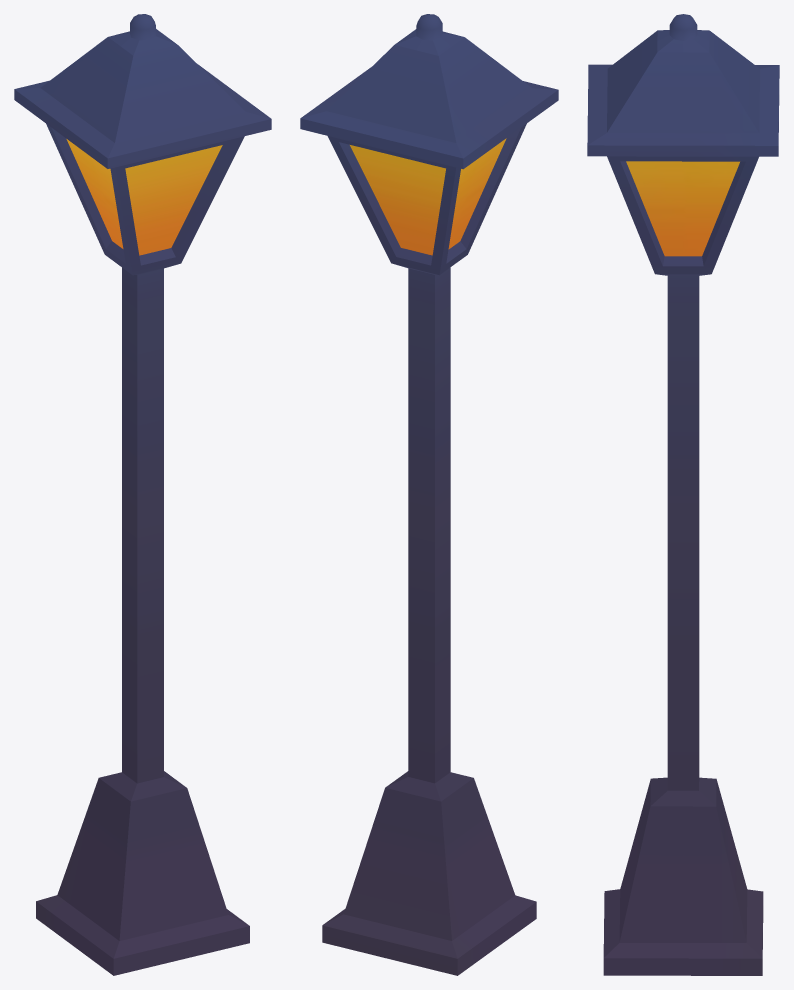
Rendered from streetlight.glb.
3 renders of one model, left to right at view 1: azimuth 30°, elevation 25°; view 2: azimuth 150°, elevation 25°; view 3: azimuth 270°, elevation 25°, orthographic.
Parts seen in each view (by area): view 1: Streetlight.001_Material.005_0; view 2: Streetlight.001_Material.005_0; view 3: Streetlight.001_Material.005_0.
Part boxes in pixels (left/top/right/bottom): Streetlight.001_Material.005_0: left=14, top=14, right=271, bottom=975; Streetlight.001_Material.005_0: left=300, top=14, right=558, bottom=975; Streetlight.001_Material.005_0: left=587, top=14, right=779, bottom=975.
Size of the model in its own units: 0.5441 by 2.9 by 0.5441.
1 material, 1 textured.
